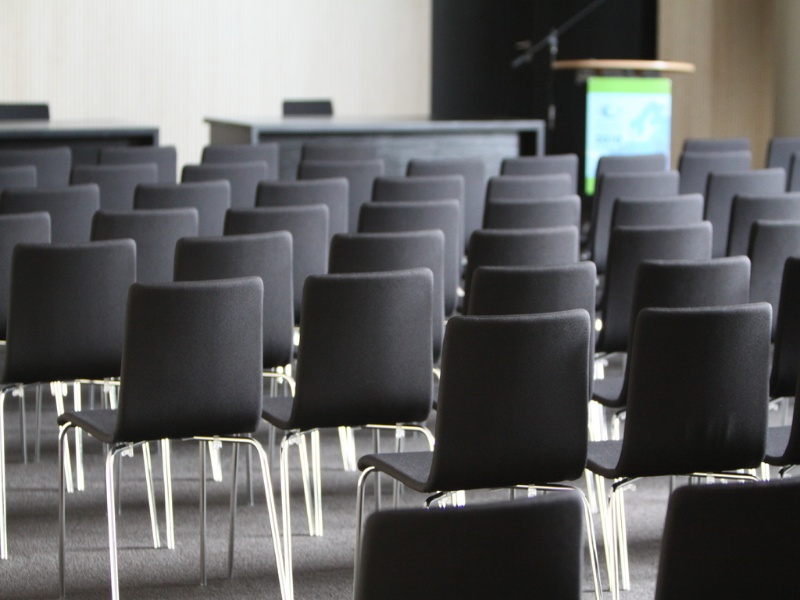chair: (59, 273, 292, 598), (609, 301, 778, 600), (351, 307, 600, 503)
